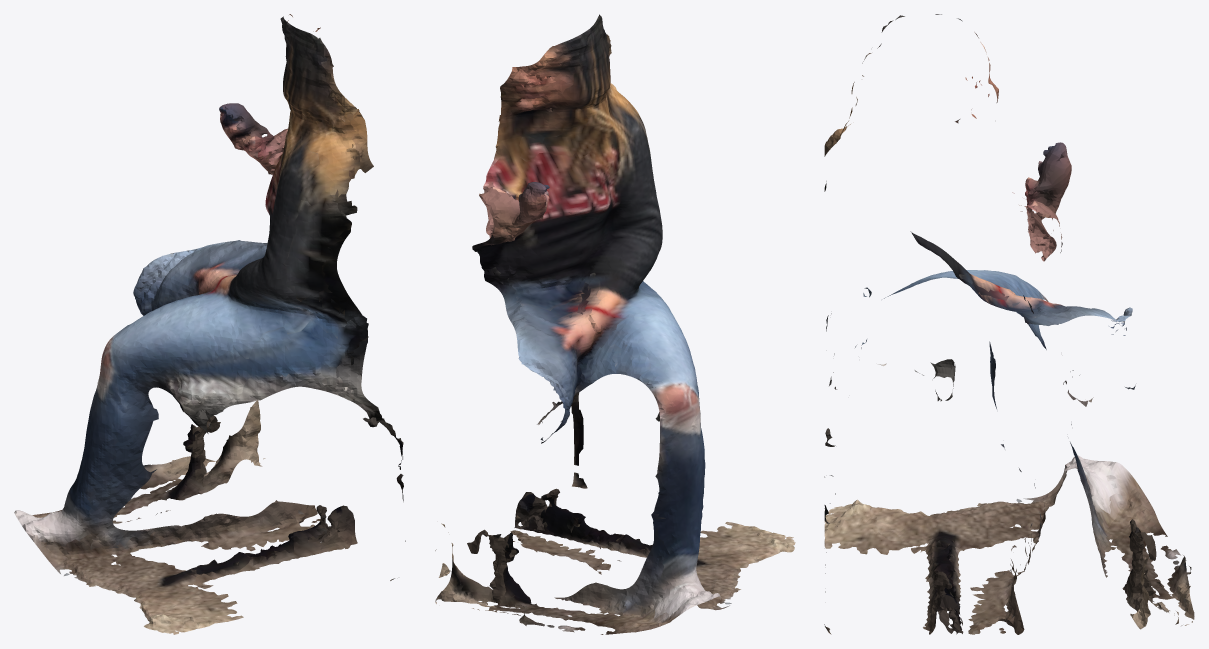
3 renders of one model, left to right at view 1: azimuth 30°, elevation 25°; view 2: azimuth 150°, elevation 25°; view 3: azimuth 270°, elevation 25°, orthographic. The views are drawn at different scales.
Bounding box in the file's own units: 0.602 × 1.15 × 0.6583.
Materials: 1 (1 with a texture image).
